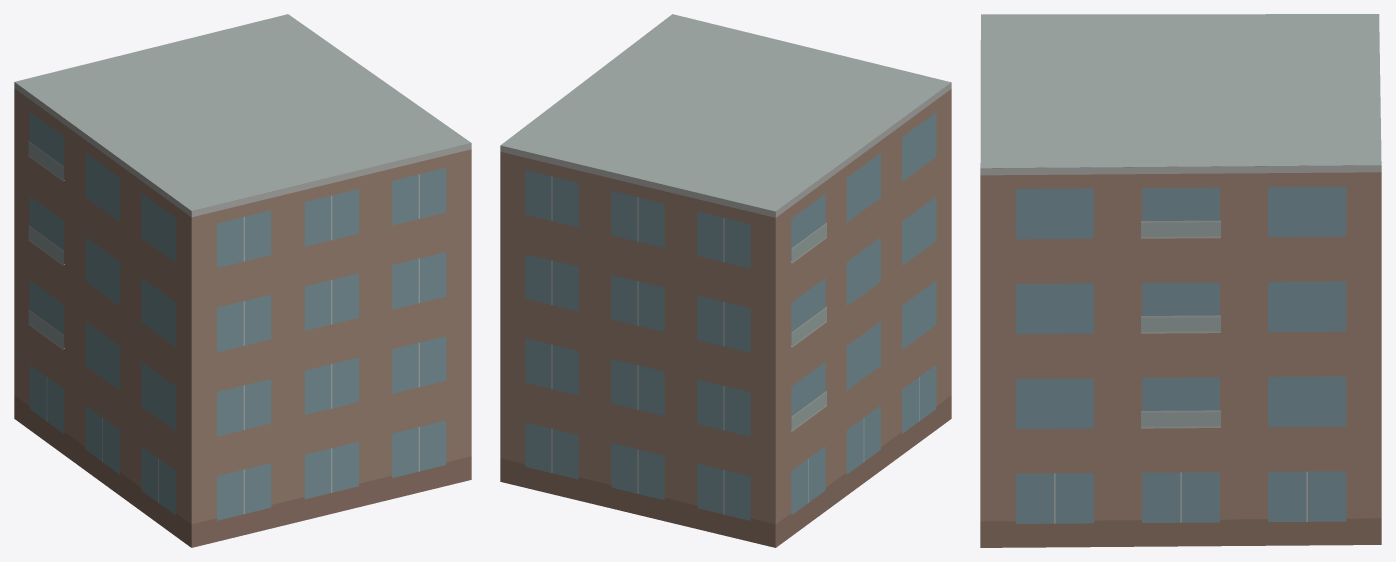
File: survey-upis-32725794.glb
The picture shows the model from 3 angles, left to right: view 1: azimuth 30°, elevation 25°; view 2: azimuth 150°, elevation 25°; view 3: azimuth 270°, elevation 25°; orthographic projection. The views are drawn at different scales.
Visible parts, largest first — view 1: survey-upis-32725794.tmp; view 2: survey-upis-32725794.tmp; view 3: survey-upis-32725794.tmp.
Boxes of the visible parts, x1,y1,x2,y2 form: survey-upis-32725794.tmp: (14, 14, 471, 547); survey-upis-32725794.tmp: (500, 14, 951, 547); survey-upis-32725794.tmp: (980, 14, 1381, 547).
Bounding box in the file's own units: 11.36 × 13 × 12.46.
